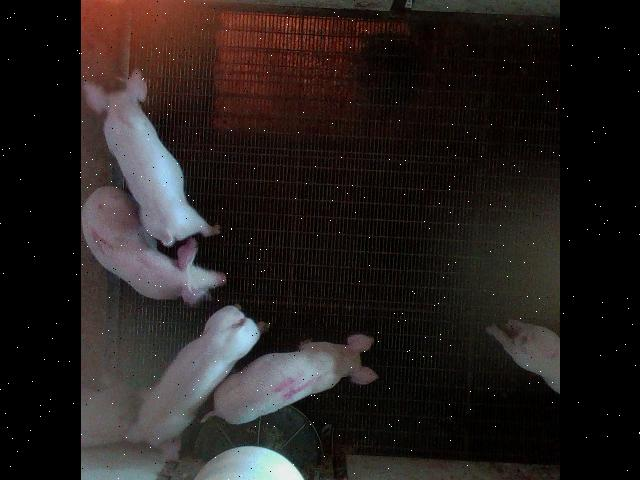pig-1: (82, 186, 225, 305)
pig-4: (201, 334, 376, 424)
